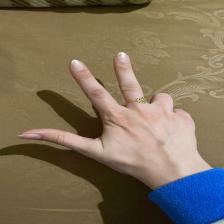three: (16, 50, 212, 174)
